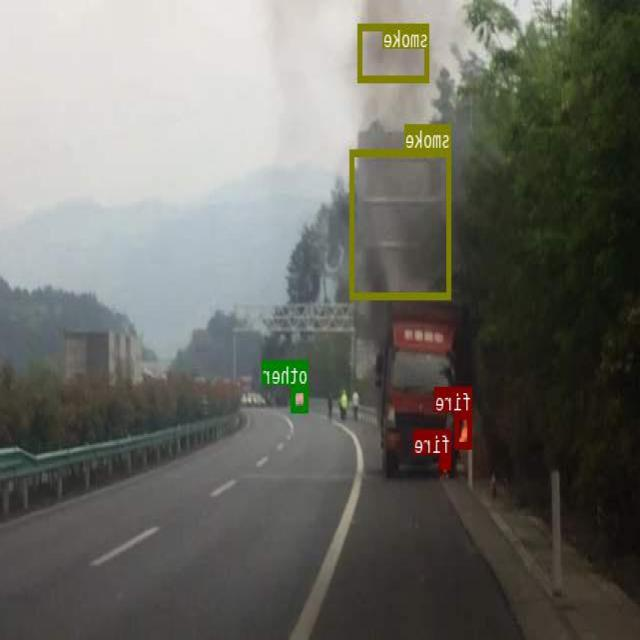fire: (455, 411, 473, 447), (441, 454, 452, 468)
other: (292, 384, 309, 412)
smoke: (351, 149, 452, 298), (358, 24, 430, 82)
